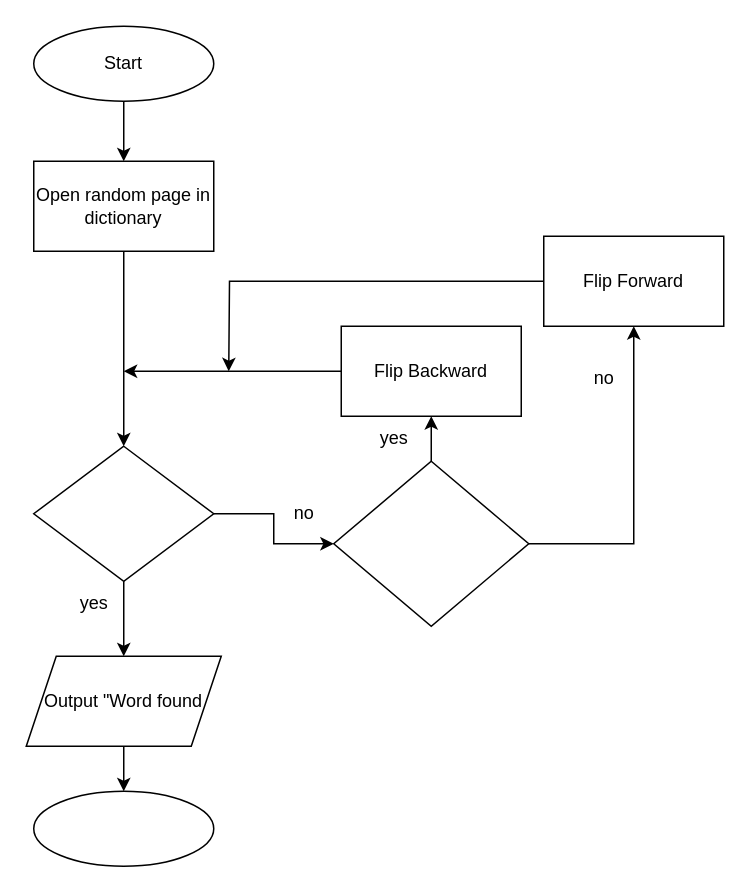
The diagram is 750 pixels wide and 893 high, and some of its shapes have lost their labels. Here are the shapes that lost their labels. From the top down, the centre of each, then its label:
(123,513): If current_word = target_word
(430,543): If current_word is alphabetically > target_word
(123,828): Stop
